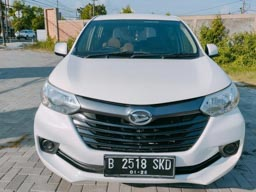plat: (105, 156, 176, 169)
